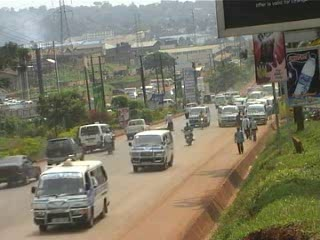Car: (0, 148, 44, 187), (42, 135, 88, 168)
Motorcycle: (180, 126, 196, 146), (100, 136, 115, 155), (195, 115, 207, 130)
